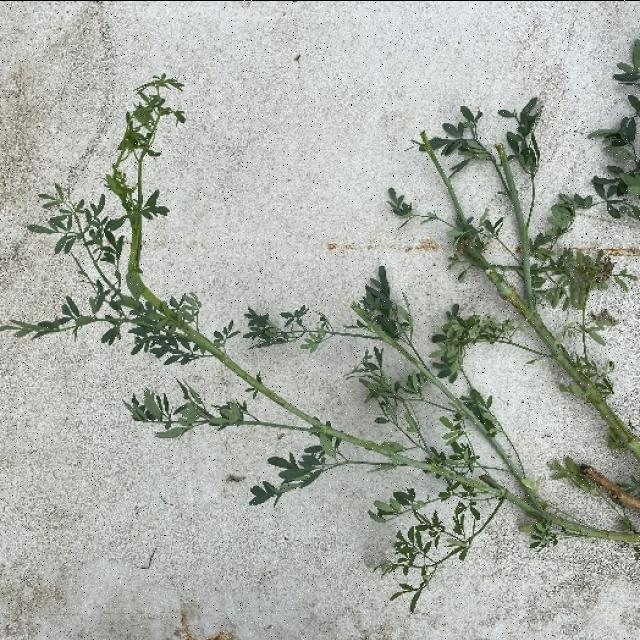organik: (26, 53, 640, 560)
